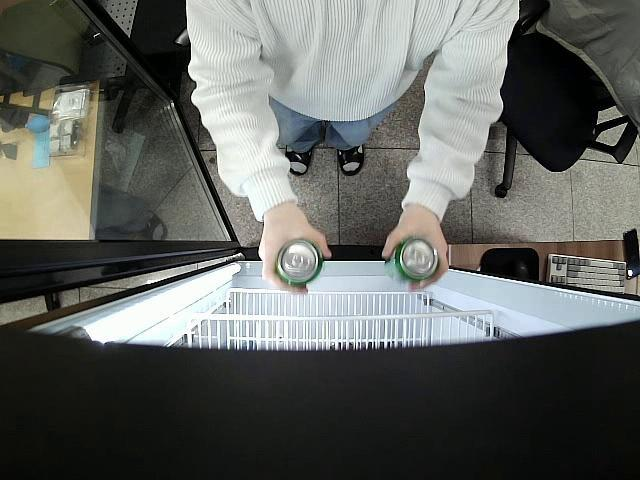12_chilsungCider: (383, 235, 440, 286), (276, 237, 324, 286)
